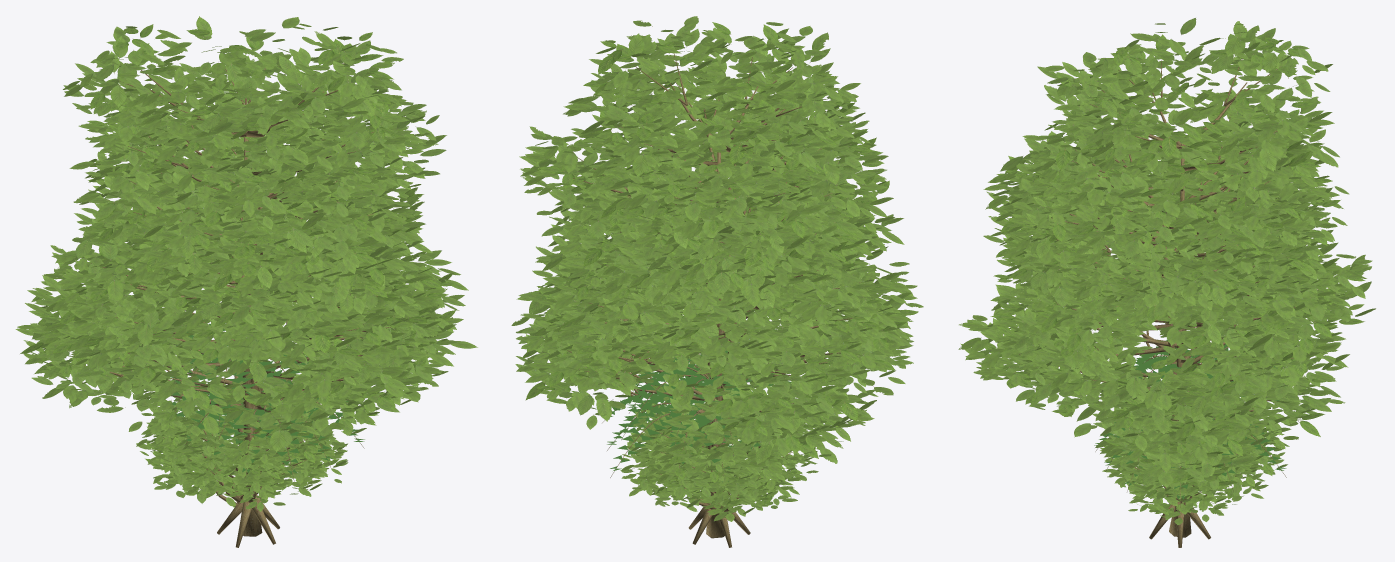
Rendered from tropical-trees.glb.
3 renders of one model, left to right at view 1: azimuth 30°, elevation 25°; view 2: azimuth 150°, elevation 25°; view 3: azimuth 270°, elevation 25°, orthographic. The views are drawn at different scales.
Visible parts, largest first — view 1: Leaves.001, Leaves.003, Leaves, Leaves.002, Leaves.007, Leaves.006, Branchwork, Leaves.004, Leaves.005, Branchwork.001, Branchwork.002, Branchwork.003; view 2: Leaves.001, Leaves.003, Leaves, Leaves.002, Leaves.007, Leaves.006, Leaves.004, Leaves.005, Branchwork.001, Branchwork, Branchwork.002; view 3: Leaves.001, Leaves.003, Leaves.002, Leaves, Leaves.006, Leaves.007, Branchwork.001, Branchwork, Branchwork.003, Leaves.005, Leaves.004, Branchwork.002.
Part boxes in pixels (x1=…): Leaves.001: x1=25, y1=16, x2=444, y2=383; Leaves.003: x1=15, y1=76, x2=453, y2=424; Leaves: x1=20, y1=132, x2=463, y2=435; Leaves.002: x1=87, y1=163, x2=477, y2=451; Leaves.007: x1=136, y1=371, x2=335, y2=495; Leaves.006: x1=150, y1=391, x2=348, y2=511; Branchwork: x1=84, y1=172, x2=391, y2=547; Leaves.004: x1=177, y1=376, x2=364, y2=474; Leaves.005: x1=169, y1=323, x2=309, y2=425; Branchwork.001: x1=91, y1=63, x2=374, y2=491; Branchwork.002: x1=123, y1=260, x2=362, y2=536; Branchwork.003: x1=115, y1=125, x2=377, y2=446; Leaves.001: x1=511, y1=16, x2=911, y2=419; Leaves.003: x1=516, y1=68, x2=923, y2=455; Leaves: x1=529, y1=117, x2=913, y2=466; Leaves.002: x1=515, y1=159, x2=913, y2=473; Leaves.007: x1=630, y1=383, x2=818, y2=507; Leaves.006: x1=619, y1=404, x2=810, y2=521; Leaves.004: x1=607, y1=381, x2=760, y2=482; Leaves.005: x1=620, y1=350, x2=791, y2=447; Branchwork.001: x1=573, y1=53, x2=860, y2=446; Branchwork: x1=599, y1=156, x2=840, y2=547; Branchwork.002: x1=567, y1=196, x2=825, y2=537; Leaves.001: x1=986, y1=18, x2=1375, y2=463; Leaves.003: x1=958, y1=96, x2=1365, y2=463; Leaves.002: x1=1004, y1=168, x2=1345, y2=490; Leaves: x1=983, y1=137, x2=1349, y2=475; Leaves.006: x1=1100, y1=410, x2=1287, y2=525; Leaves.007: x1=1107, y1=376, x2=1289, y2=508; Branchwork.001: x1=1056, y1=59, x2=1317, y2=359; Branchwork: x1=1056, y1=188, x2=1293, y2=547; Branchwork.003: x1=1019, y1=149, x2=1270, y2=420; Leaves.005: x1=1122, y1=340, x2=1279, y2=408; Leaves.004: x1=1094, y1=416, x2=1286, y2=499; Branchwork.002: x1=1057, y1=227, x2=1271, y2=537.
Bounding box in the file's own units: 15.38 × 17.96 × 15.01.
3 materials, 2 textured.
